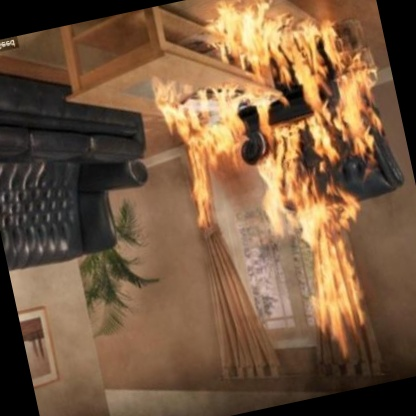fire: (127, 0, 416, 412)
